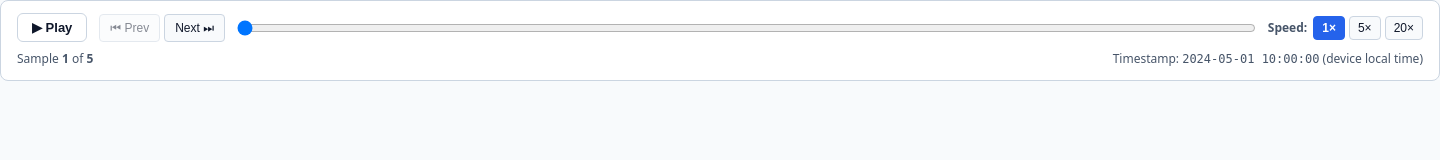
Test: Replay Player Component & Controls (T16-010) › changes speed immediately (1x -> 5x -> 20x)
The width and height of the screenshot is (1440, 160).
Start playback
Click the button named "play replay". click: (52, 28)
box: [17, 13, 87, 42]
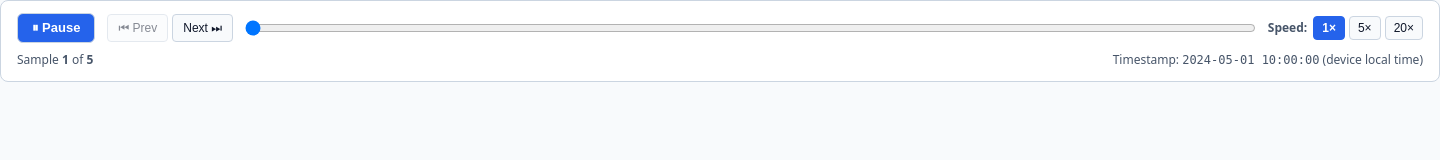
Switch speed to 5x (interval 200ms)
Click the button "5×". click: (1365, 28)
box: [1349, 16, 1381, 40]
Wait 200 ms
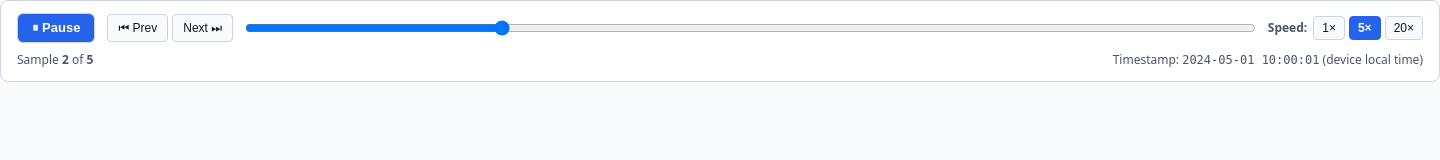
Check: the text "2024-05-01 10:00:01" is shown, box [1182, 53, 1320, 67]
Switch speed to 20x (interval 50ms)
Click the button "20×". click: (1404, 28)
box: [1385, 16, 1423, 40]
Wait 50 ms
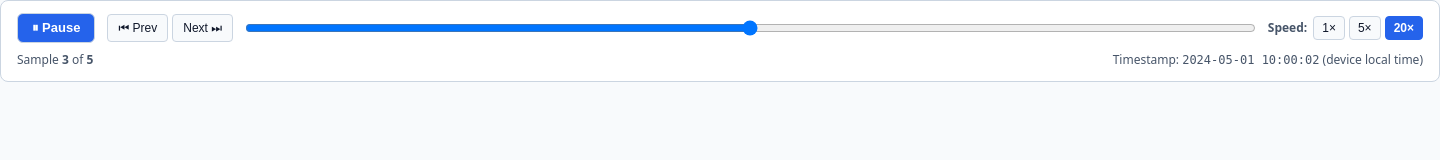
Check: the text "2024-05-01 10:00:02" is shown, box [1182, 53, 1320, 67]
